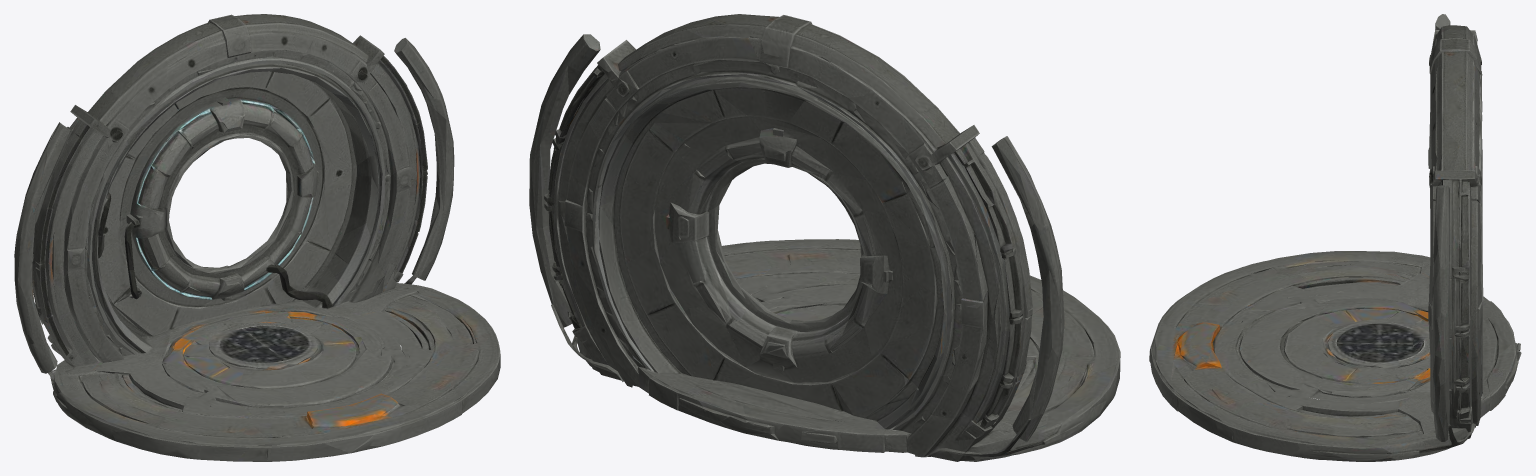
File: teleporteur.glb
3 views of the same model, side by side, from view 1: azimuth 30°, elevation 25°; view 2: azimuth 150°, elevation 25°; view 3: azimuth 270°, elevation 25° (orthographic). The views are drawn at different scales.
Size of the model in its own units: 1.9 by 1.33 by 1.38.
Materials: 1 (1 with a texture image).
